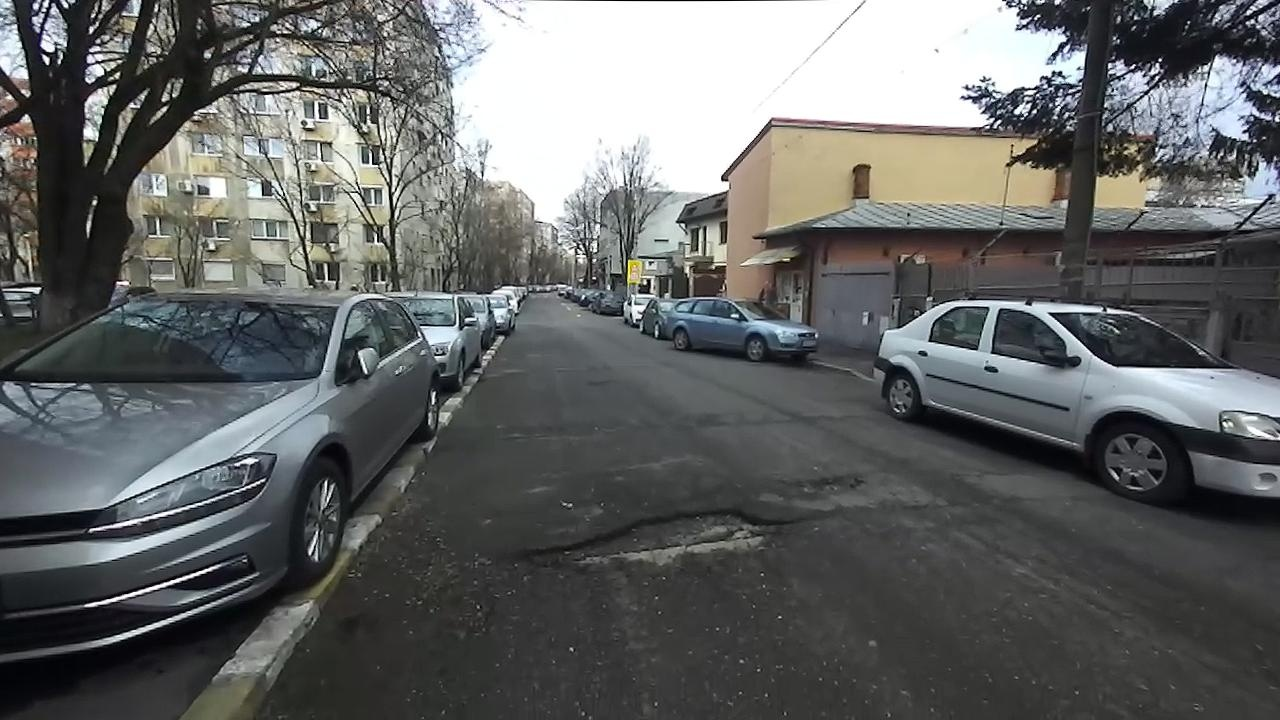pothole: (506, 502, 794, 578), (780, 465, 871, 495)
